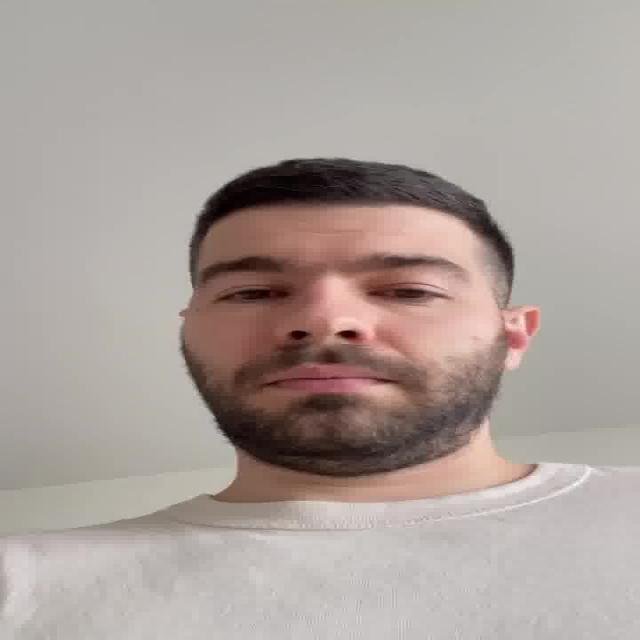earlobe: (500, 347, 527, 371)
eye: (368, 282, 451, 302), (217, 284, 286, 303)
nose: (274, 333, 374, 364)
wholeear: (500, 305, 542, 371)
